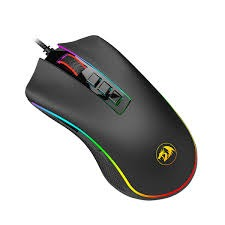mouse: (20, 38, 207, 200)
